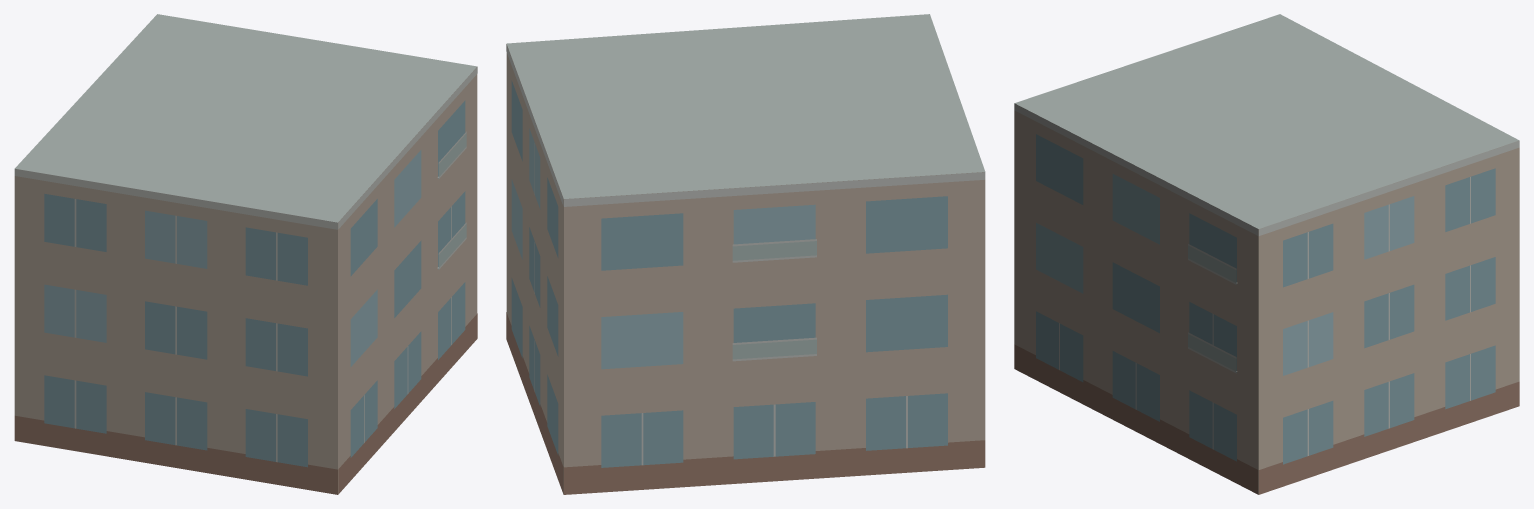
File: survey-upis-32722013.glb
3 views of the same model, side by side, from view 1: azimuth 30°, elevation 25°; view 2: azimuth 150°, elevation 25°; view 3: azimuth 270°, elevation 25° (orthographic). The views are drawn at different scales.
Visible parts, largest first — view 1: survey-upis-32722013.tmp; view 2: survey-upis-32722013.tmp; view 3: survey-upis-32722013.tmp.
Part boxes in pixels (x1=…): survey-upis-32722013.tmp: x1=14, y1=14, x2=477, y2=494; survey-upis-32722013.tmp: x1=506, y1=14, x2=985, y2=494; survey-upis-32722013.tmp: x1=1014, y1=14, x2=1519, y2=494.
Size of the model in its own units: 15.9 by 9.15 by 15.78.
